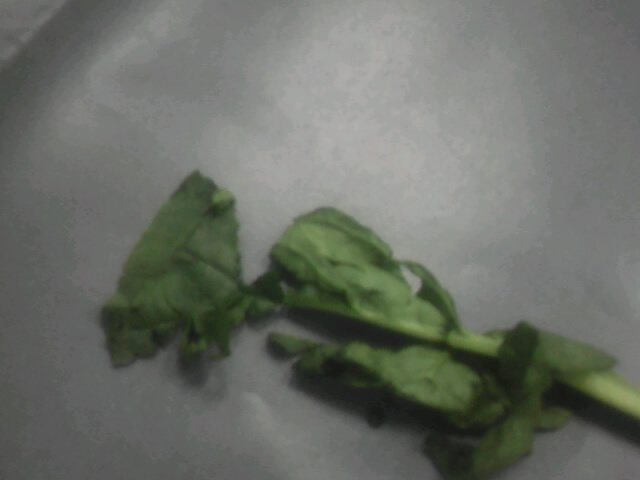yellow: (98, 155, 555, 466)
